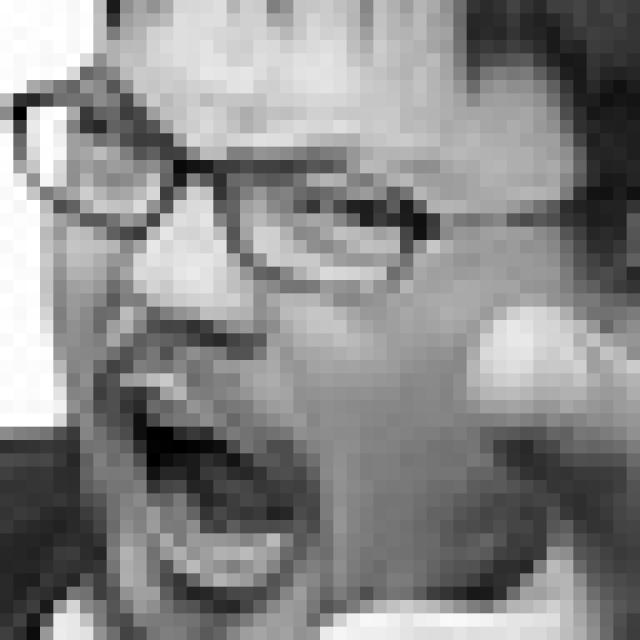angry: (72, 56, 422, 609)
